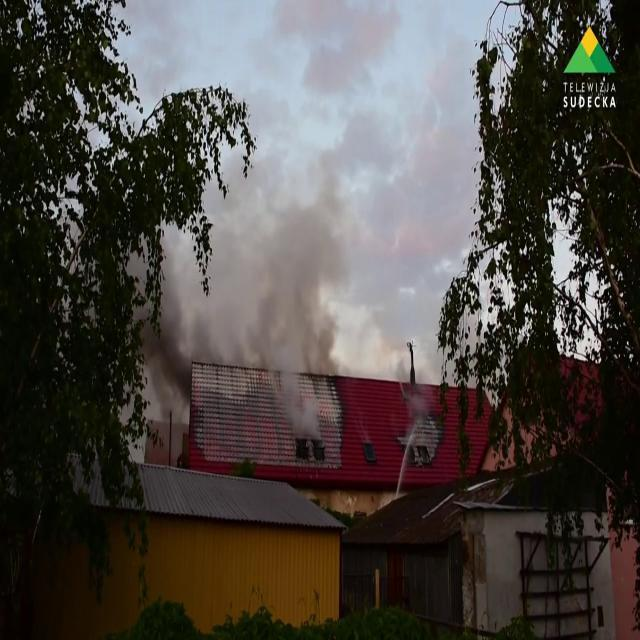Smoke: (149, 130, 352, 410)
